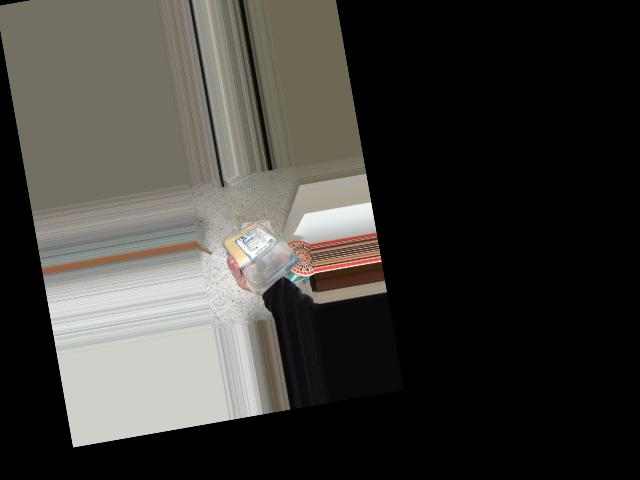cheese: (228, 209, 305, 293)
